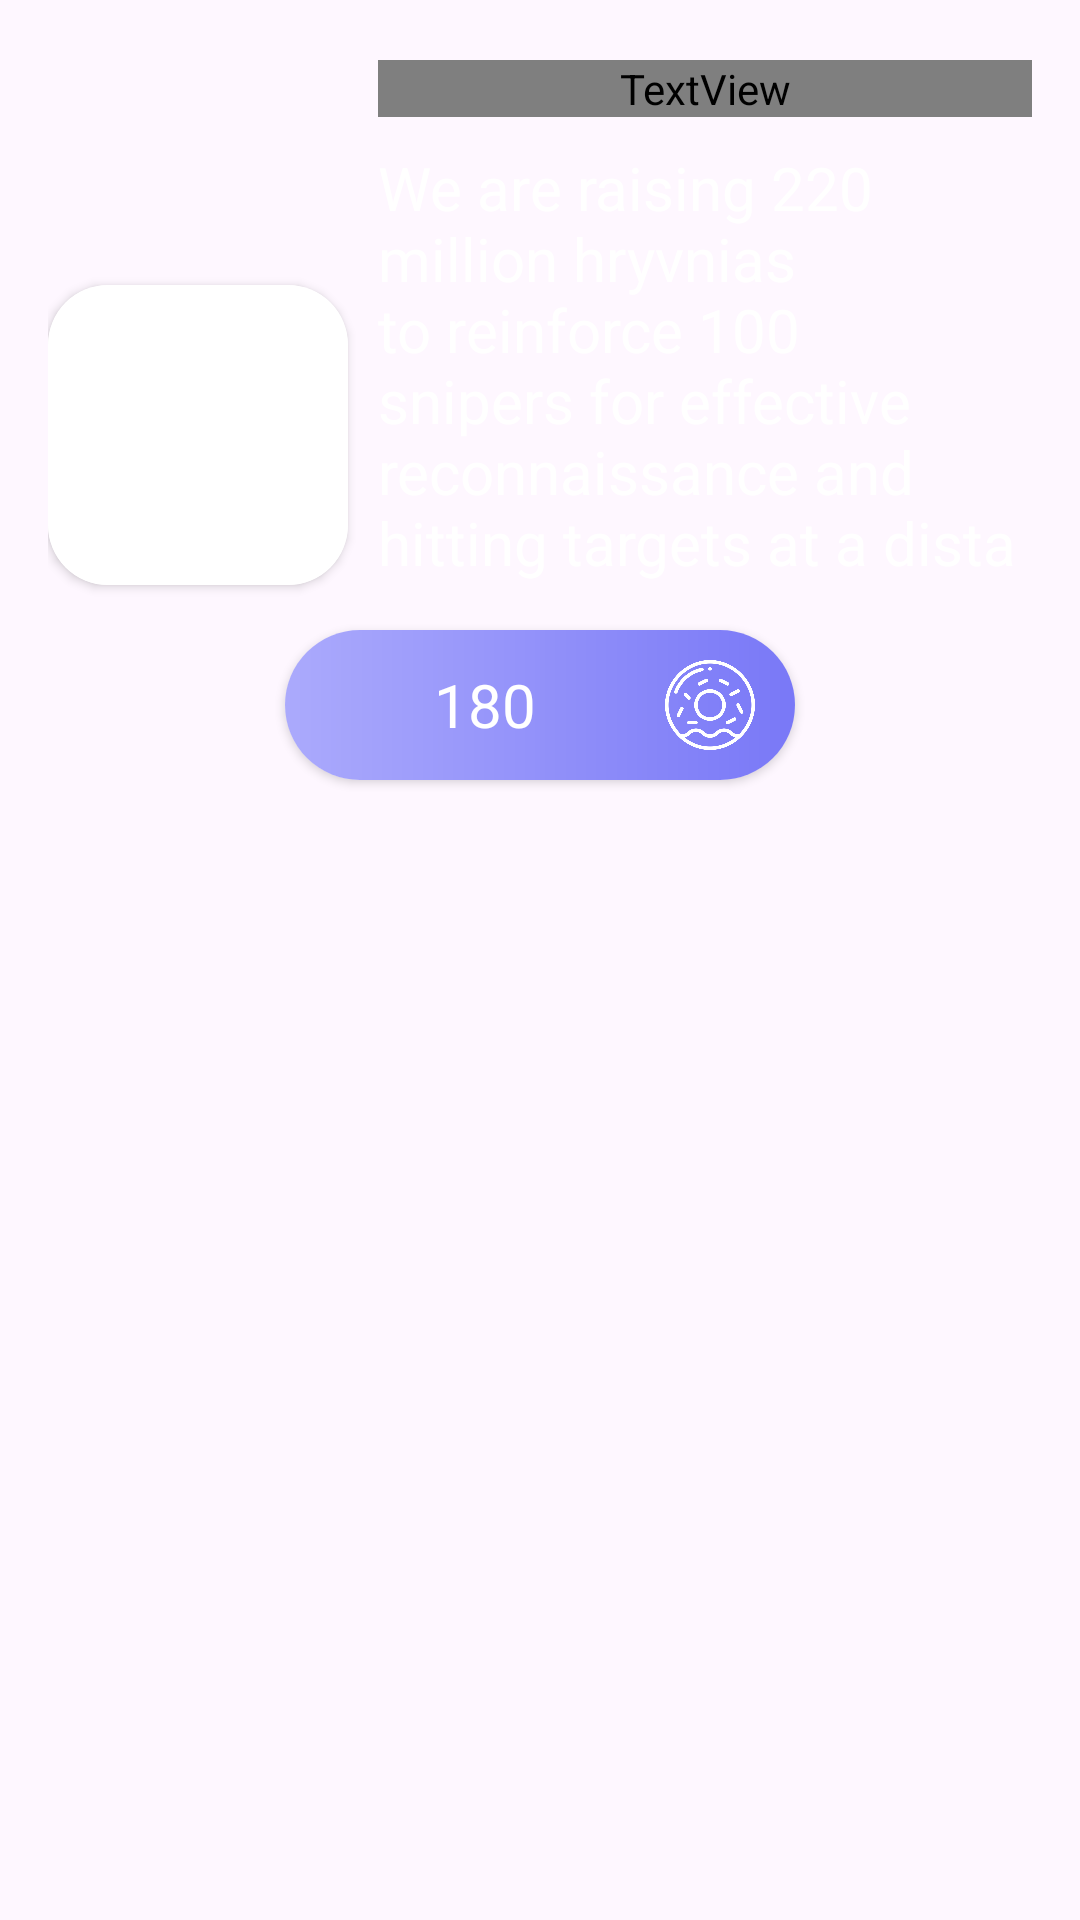

Named icons in this screenshot (1080x1920) and their centers, [x,y]:
donut: [710,705]
